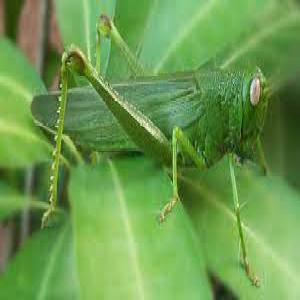locust: (42, 37, 276, 176)
